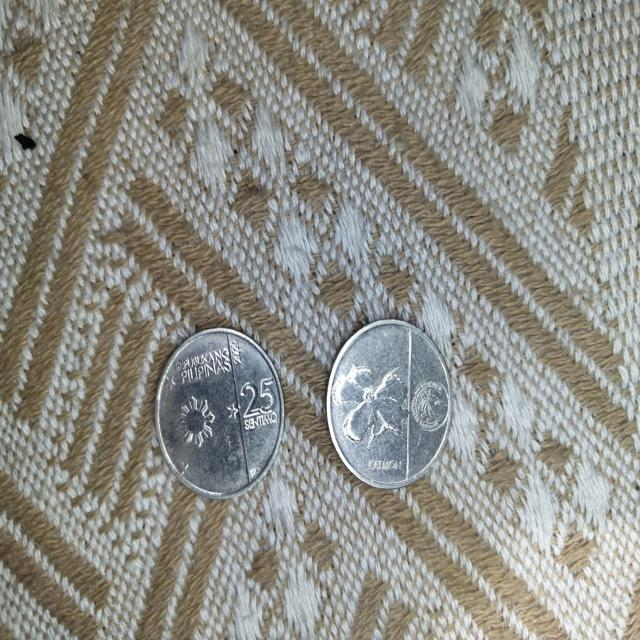25 cents: (148, 317, 288, 504), (323, 309, 459, 501)
